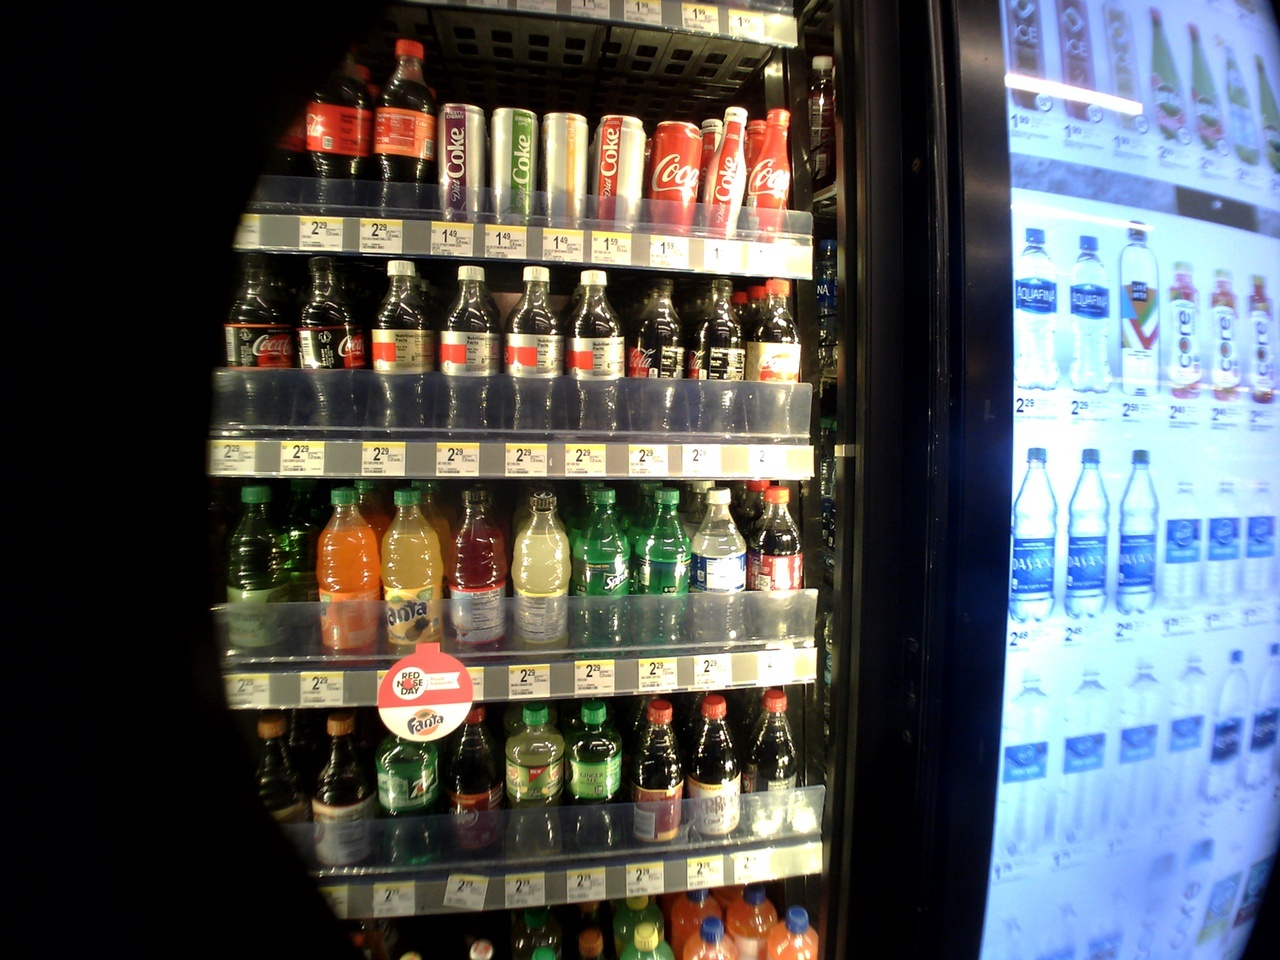shelf: (216, 5, 807, 278), (195, 258, 815, 478), (196, 487, 826, 686), (178, 696, 822, 884)
